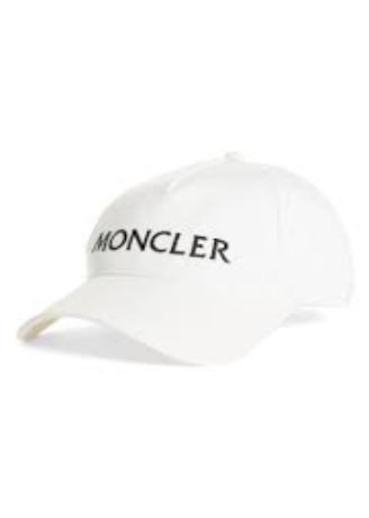MONCLER: (87, 219, 232, 266)
